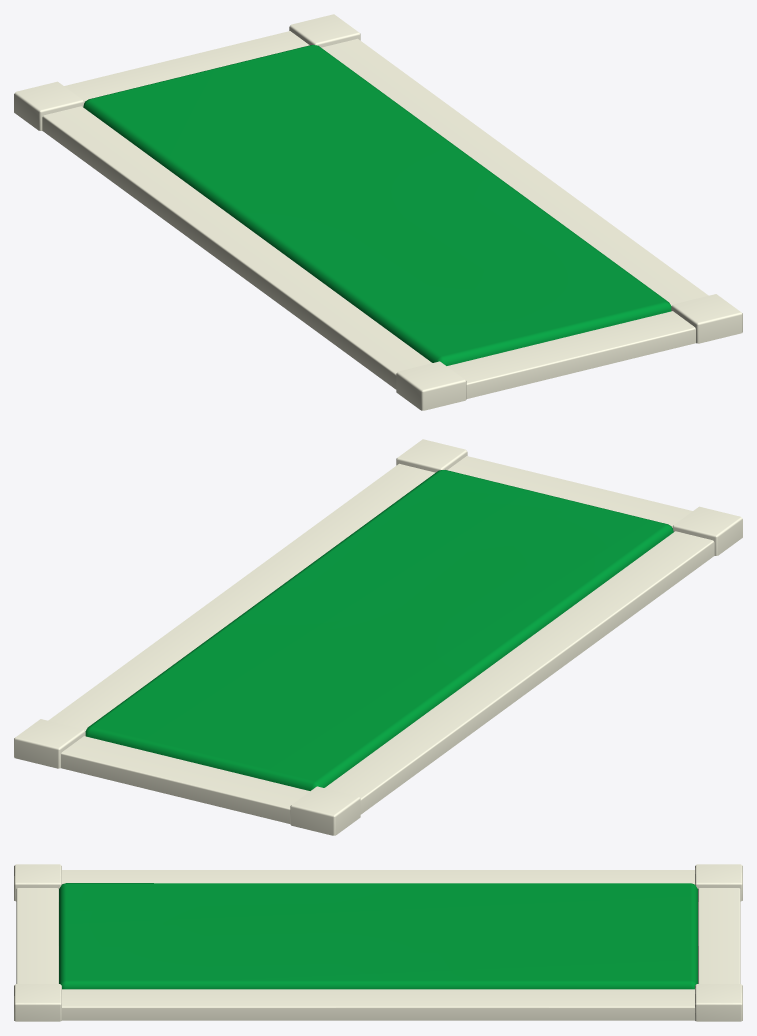
Rendered from Town_1_Ground_1.glb.
3 views of the same model, one above another, from view 1: azimuth 30°, elevation 25°; view 2: azimuth 150°, elevation 25°; view 3: azimuth 270°, elevation 25° (orthographic). The views are drawn at different scales.
Visible parts, largest first — view 1: Town_1_Ground_1; view 2: Town_1_Ground_1; view 3: Town_1_Ground_1.
Boxes of the visible parts, x1,y1,x2,y2 form: Town_1_Ground_1: (14, 14, 742, 410); Town_1_Ground_1: (14, 439, 742, 835); Town_1_Ground_1: (14, 864, 742, 1021).
Size of the model in its own units: 5.05 by 0.3273 by 11.1.
Materials: 1 (1 with a texture image).
